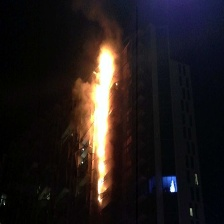fire: (97, 46, 115, 206)
smoke: (69, 1, 94, 136)
